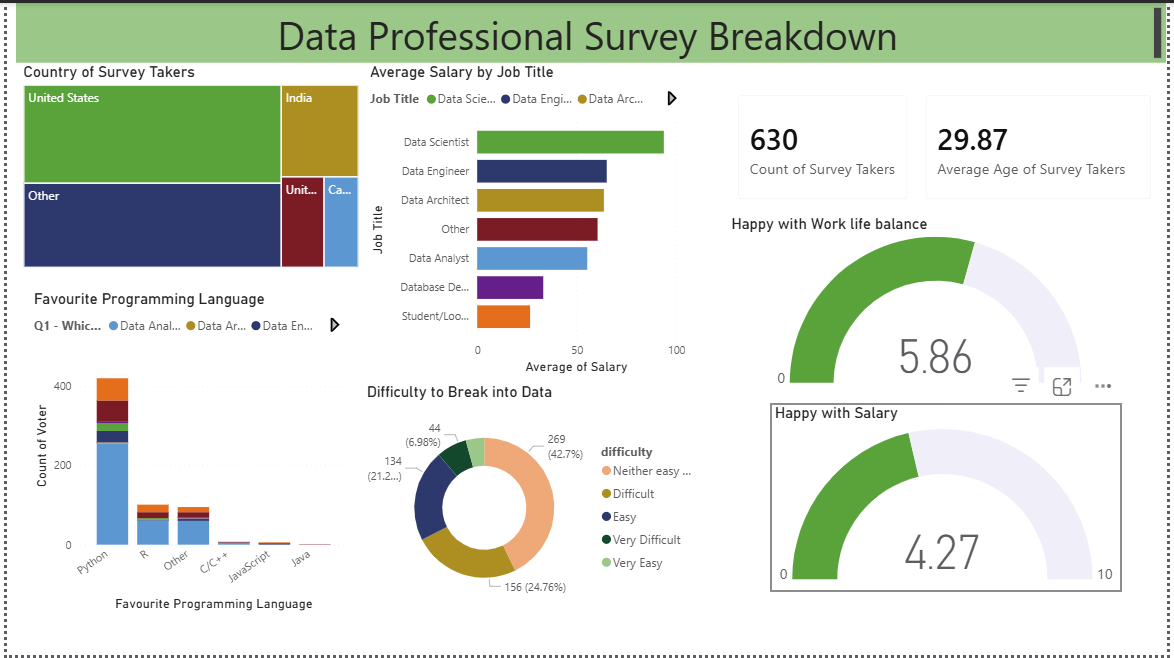

This screenshot's page, from the dashboard's own definition file:
{"tool":"powerbi","page":{"name":"Page 1","canvas":[1280,720],"ordinal":0},"visuals":[{"type":"textbox","box":[9.4,0,1269.9,66.1],"z":0},{"type":"cardVisual","fields":{"Data":["CountNonNull(Data Professional Survey.Unique ID)"]},"box":[790.1,84.5,222,149.1],"z":1000},{"type":"cardVisual","fields":{"Data":["Avg(Data Professional Survey.Q10 - Current Age)"]},"box":[997.2,84.5,283.3,149.1],"z":2000},{"type":"barChart","title":"Average Salary by Job Title","fields":{"Category":["Data Professional Survey.Q1 - Which Title Best Fits your Current Role?.1"],"Y":["Avg(Data Professional Survey.Average Salary)"],"Series":["Data Professional Survey.Q1 - Which Title Best Fits your Current Role?.1"]},"box":[395.9,66.3,357.8,347.9],"z":3000},{"type":"columnChart","title":"Favourite Programming Language","fields":{"Category":["Data Professional Survey.Q5 - Favorite Programming Language.1"],"Y":["CountNonNull(Data Professional Survey.Unique ID)"],"Series":["Data Professional Survey.Q1 - Which Title Best Fits your Current Role?.1"]},"box":[24.8,316.4,356.1,359.5],"z":3001},{"type":"treemap","title":"Country of Survey Takers","fields":{"Group":["Data Professional Survey.Q11 - Which Country do you live in?.1"],"Values":["CountNonNull(Data Professional Survey.Q11 - Which Country do you live in?.1)"]},"box":[13.3,66.3,379.3,230.3],"z":3002},{"type":"gauge","title":"Happy with Work life balance","fields":{"Y":["Avg(Data Professional Survey.Q6 - How Happy are you in your Current Position with the following? (Coworkers))"],"MinValue":["Min(Data Professional Survey.Q6 - How Happy are you in your Current Position with the following? (Coworkers))1"],"MaxValue":["Max(Data Professional Survey.Q6 - How Happy are you in your Current Position with the following? (Coworkers))2"]},"box":[795.1,233.6,468.8,195.5],"z":3003},{"type":"gauge","title":"Happy with Salary","fields":{"Y":["Avg(Data Professional Survey.Q6 - How Happy are you in your Current Position with the following? (Salary))"],"MinValue":["Min(Data Professional Survey.Q6 - How Happy are you in your Current Position with the following? (Salary))1"],"MaxValue":["Max(Data Professional Survey.Q6 - How Happy are you in your Current Position with the following? (Salary))2"]},"box":[843.1,442.3,387.6,207.1],"z":3004},{"type":"donutChart","title":"Difficulty to Break into Data","fields":{"Category":["Data Professional Survey.Q7 - How difficult was it for you to break into Data?"],"Y":["CountNonNull(Data Professional Survey.Q7 - How difficult was it for you to break into Data?)"]},"box":[392.6,419.1,379.3,256.8],"z":3005}]}

Visuals, with their boxes in screenshot pixels (x1, y1, x2, y2), scaled from the page's 1280x720 canvas onto the 1174x658 screenshot:
textbox: [left=9, top=0, right=1173, bottom=60]
cardVisual - CountNonNull(Data Professional Survey.Unique ID): [left=725, top=77, right=928, bottom=213]
cardVisual - Avg(Data Professional Survey.Q10 - Current Age): [left=915, top=77, right=1173, bottom=213]
"Average Salary by Job Title" barChart: [left=363, top=61, right=691, bottom=379]
"Favourite Programming Language" columnChart: [left=23, top=289, right=349, bottom=618]
"Country of Survey Takers" treemap: [left=12, top=61, right=360, bottom=271]
"Happy with Work life balance" gauge: [left=729, top=213, right=1159, bottom=392]
"Happy with Salary" gauge: [left=773, top=404, right=1129, bottom=593]
"Difficulty to Break into Data" donutChart: [left=360, top=383, right=708, bottom=618]
